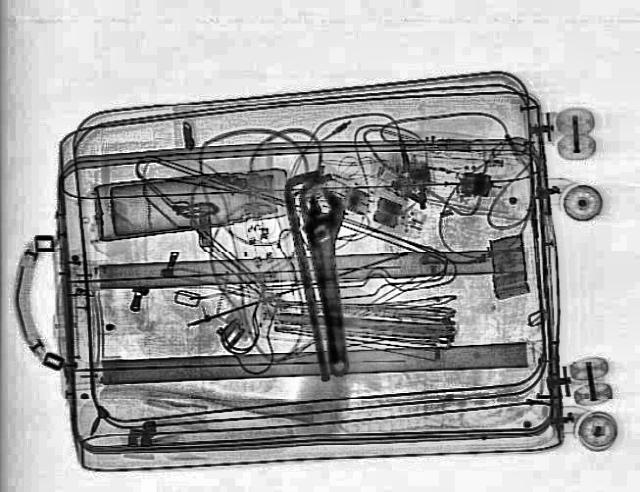Wrench: (294, 188, 368, 378)
